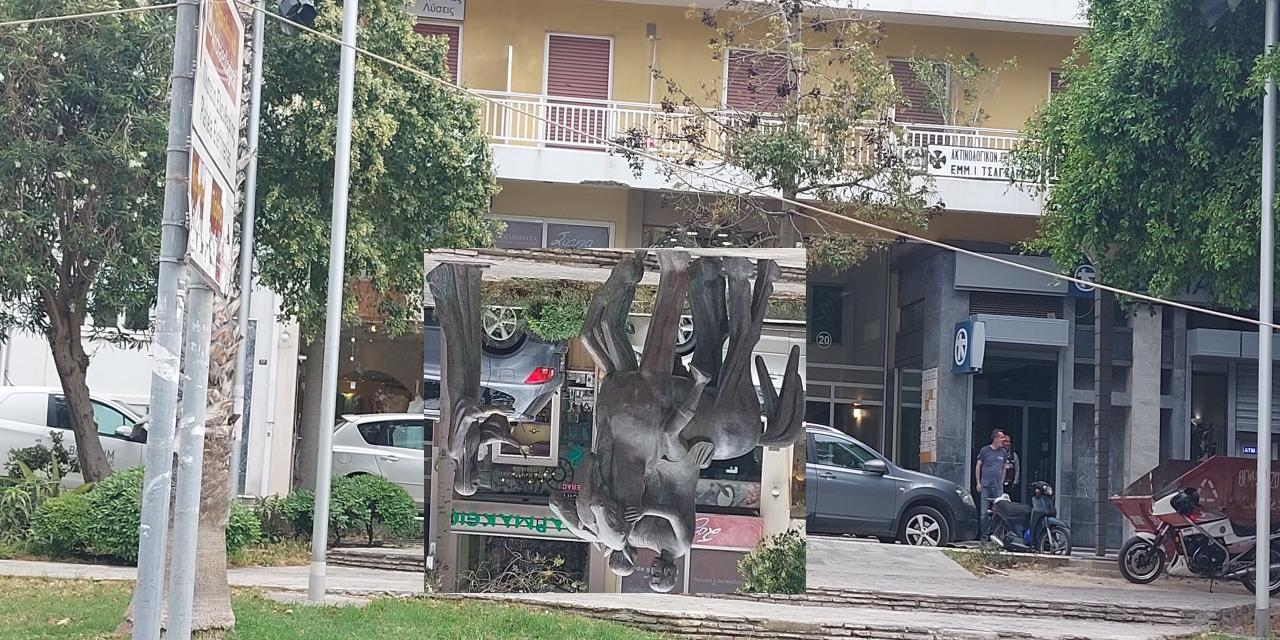Aretousa: (425, 249, 807, 594)
